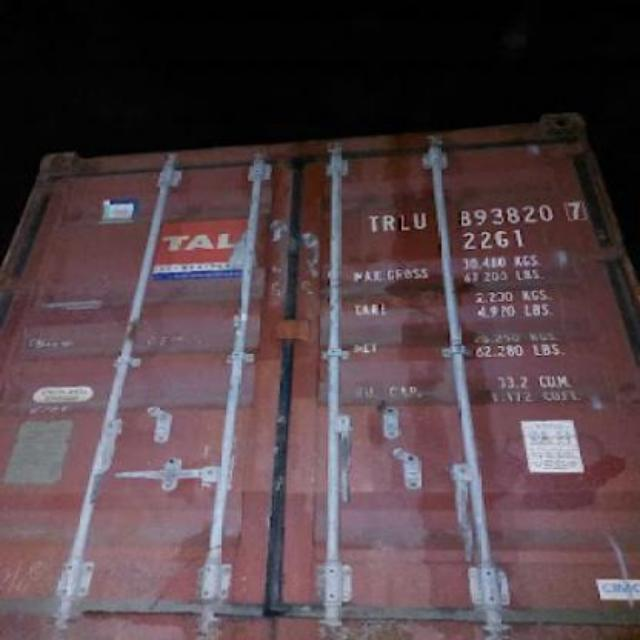0: (538, 204, 556, 226)
2: (522, 206, 538, 224)
3: (490, 208, 506, 224)
7: (564, 203, 586, 219)
8: (506, 206, 522, 224), (458, 208, 472, 228)
9: (474, 209, 490, 227)
L: (398, 212, 414, 232)
R: (382, 213, 398, 231)
T: (368, 213, 382, 231)
U: (412, 210, 430, 230)
